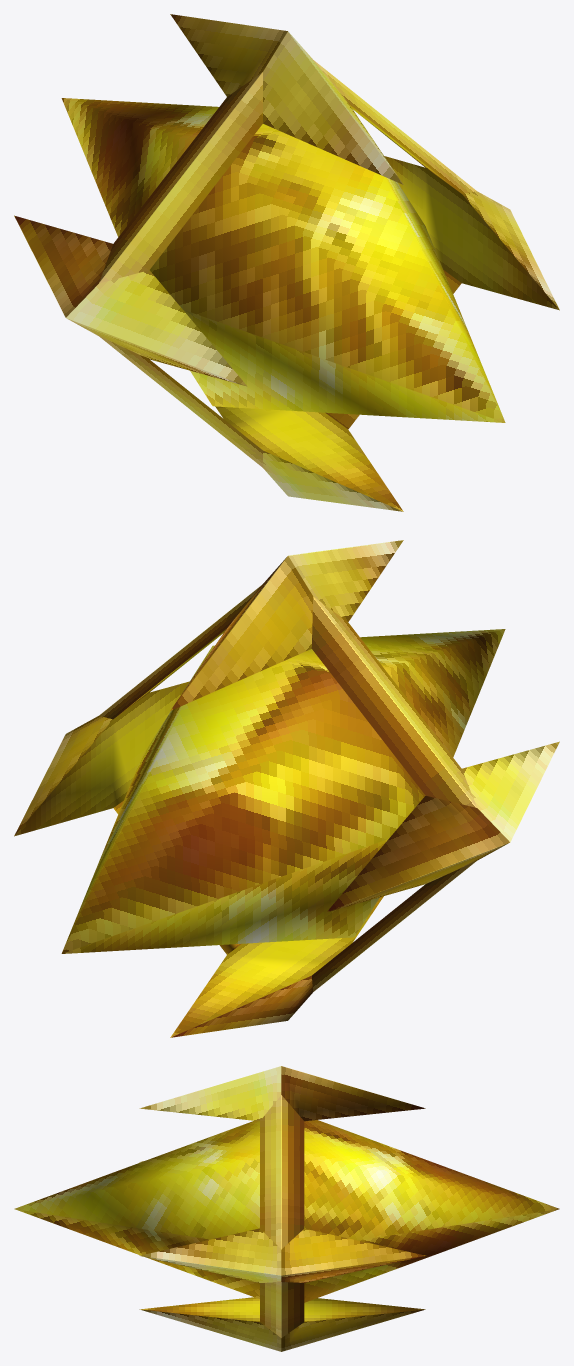
The model's file is GarudaFlame.glb.
3 renders of one model, top to bottom at view 1: azimuth 30°, elevation 25°; view 2: azimuth 150°, elevation 25°; view 3: azimuth 270°, elevation 25°, orthographic. The views are drawn at different scales.
Parts seen in each view (by area): view 1: model_GarudaFlame; view 2: model_GarudaFlame; view 3: model_GarudaFlame.
Part boxes in pixels (bbox=[...]): model_GarudaFlame: bbox=[14, 14, 559, 511]; model_GarudaFlame: bbox=[14, 540, 559, 1037]; model_GarudaFlame: bbox=[14, 1066, 559, 1351].
Size of the model in its own units: 0.4615 by 0.4615 by 0.7986.
Materials: 1 (1 with a texture image).
